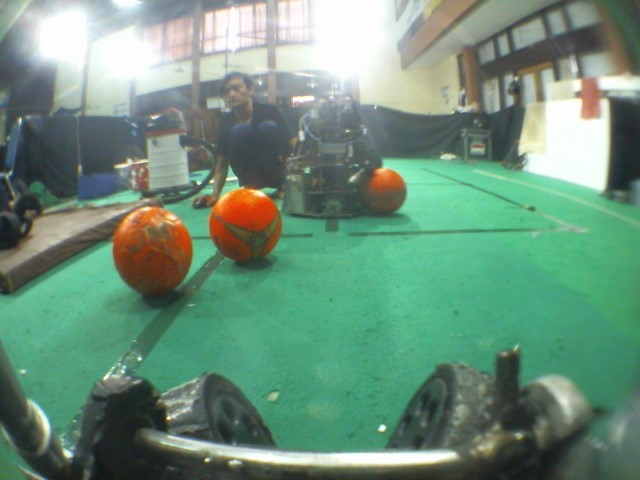ball: (110, 206, 195, 302), (204, 187, 285, 269), (357, 166, 409, 222)
